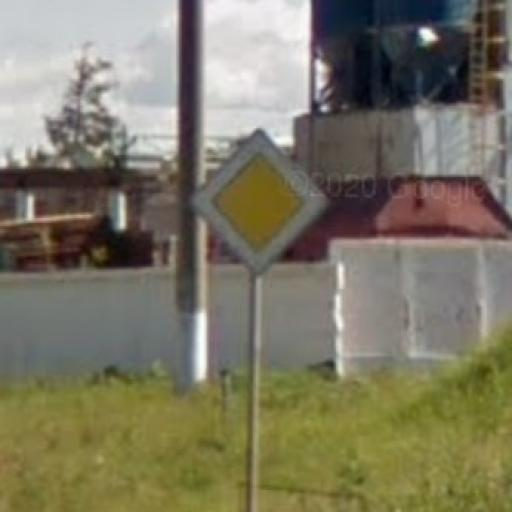traffic_sign: (191, 128, 330, 278)
